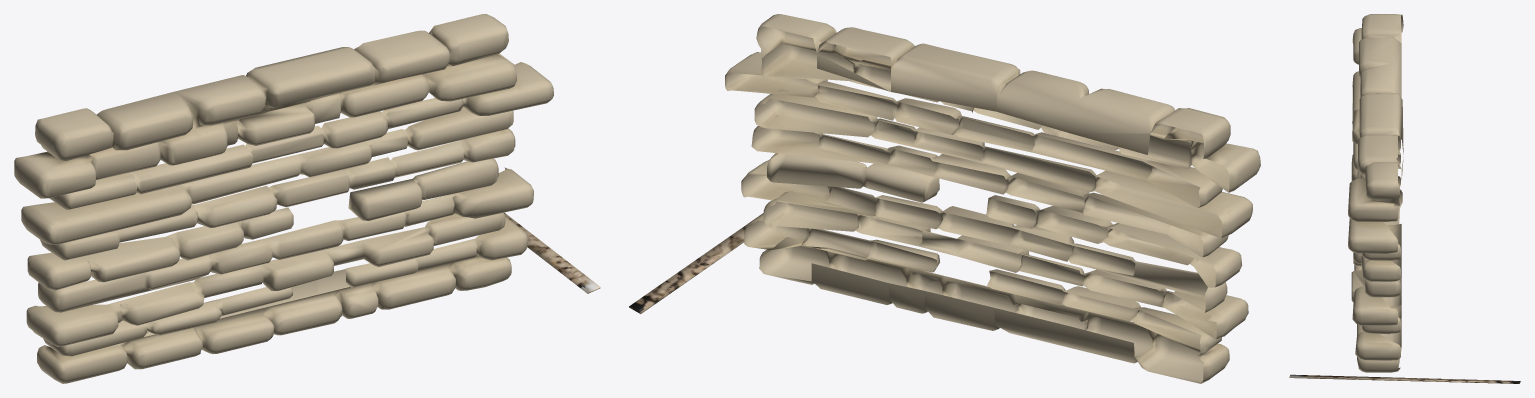
File: 019dfae0-4bc0-7980-8fbf-92c4b4a2bdff.glb
3 renders of one model, left to right at view 1: azimuth 30°, elevation 25°; view 2: azimuth 150°, elevation 25°; view 3: azimuth 270°, elevation 25°, orthographic. The views are drawn at different scales.
Parts seen in each view (by area): view 1: tripo_node_6e822d07-5479-4f13-844c-5fafab2321d3; view 2: tripo_node_6e822d07-5479-4f13-844c-5fafab2321d3; view 3: tripo_node_6e822d07-5479-4f13-844c-5fafab2321d3.
Boxes of the visible parts, x1,y1,x2,y2 form: tripo_node_6e822d07-5479-4f13-844c-5fafab2321d3: (14,14,600,383); tripo_node_6e822d07-5479-4f13-844c-5fafab2321d3: (629,14,1260,383); tripo_node_6e822d07-5479-4f13-844c-5fafab2321d3: (1289,14,1520,383).
Bounding box in the file's own units: 0.998 × 0.459 × 0.4941.
1 material, 1 textured.
